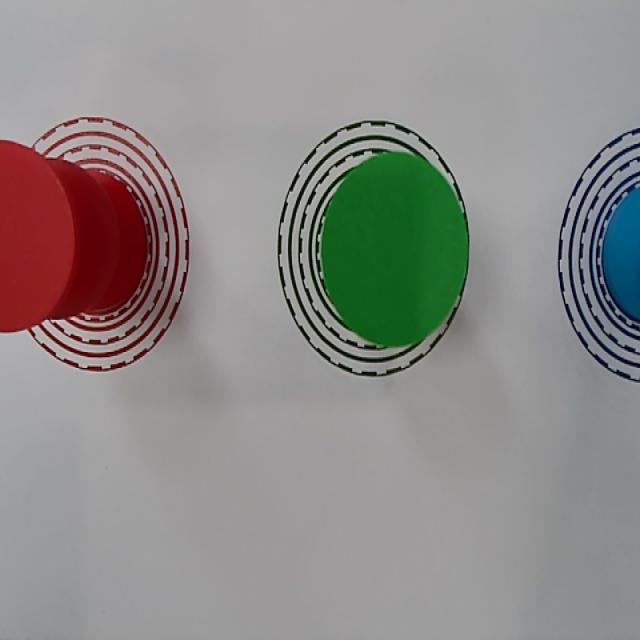g: (323, 152, 469, 346)
